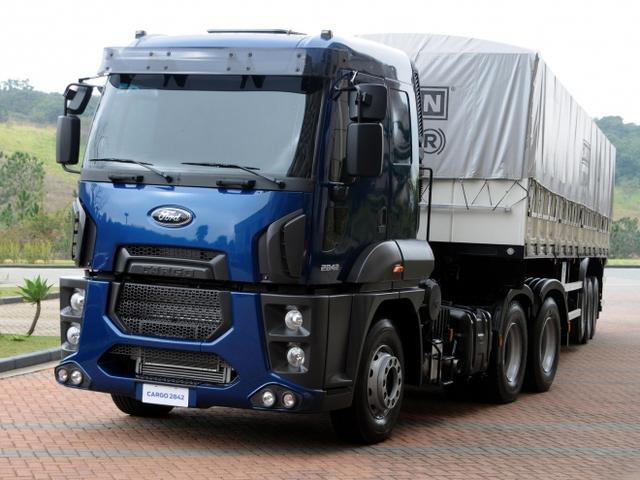truck: (57, 8, 632, 457)
